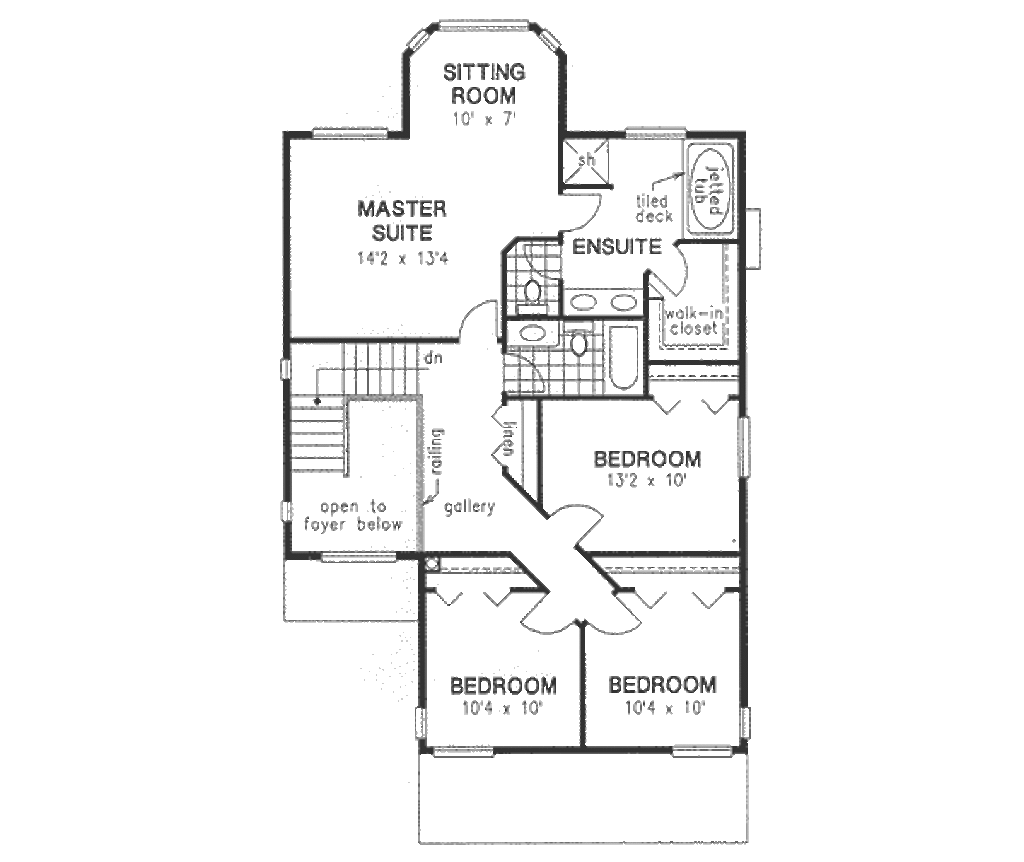door: (513, 589, 579, 642), (495, 341, 549, 400), (643, 241, 697, 300), (560, 186, 612, 244), (583, 590, 641, 641), (544, 501, 604, 549), (449, 292, 501, 346), (528, 237, 565, 284)
large_sink: (508, 270, 556, 321), (564, 324, 593, 368)
small_sink: (561, 286, 641, 318), (507, 318, 564, 348)
stairs: (283, 340, 421, 478)
tub: (603, 320, 639, 396)
window: (407, 20, 561, 56), (303, 117, 397, 142), (321, 540, 399, 569), (425, 737, 500, 762), (731, 413, 757, 484), (615, 122, 695, 138), (412, 702, 432, 745), (671, 748, 732, 753), (743, 705, 751, 740)
